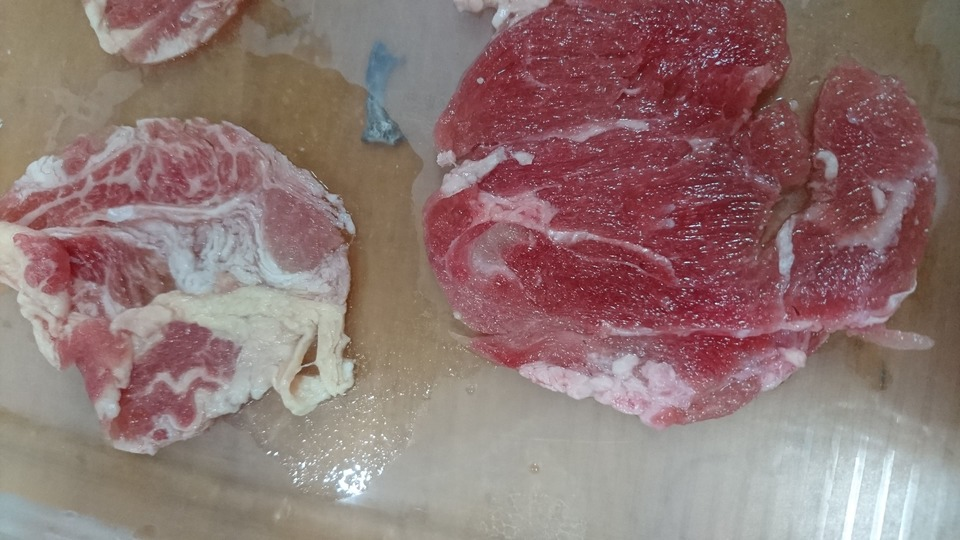restructured meat: (427, 15, 934, 426), (6, 126, 367, 434)
